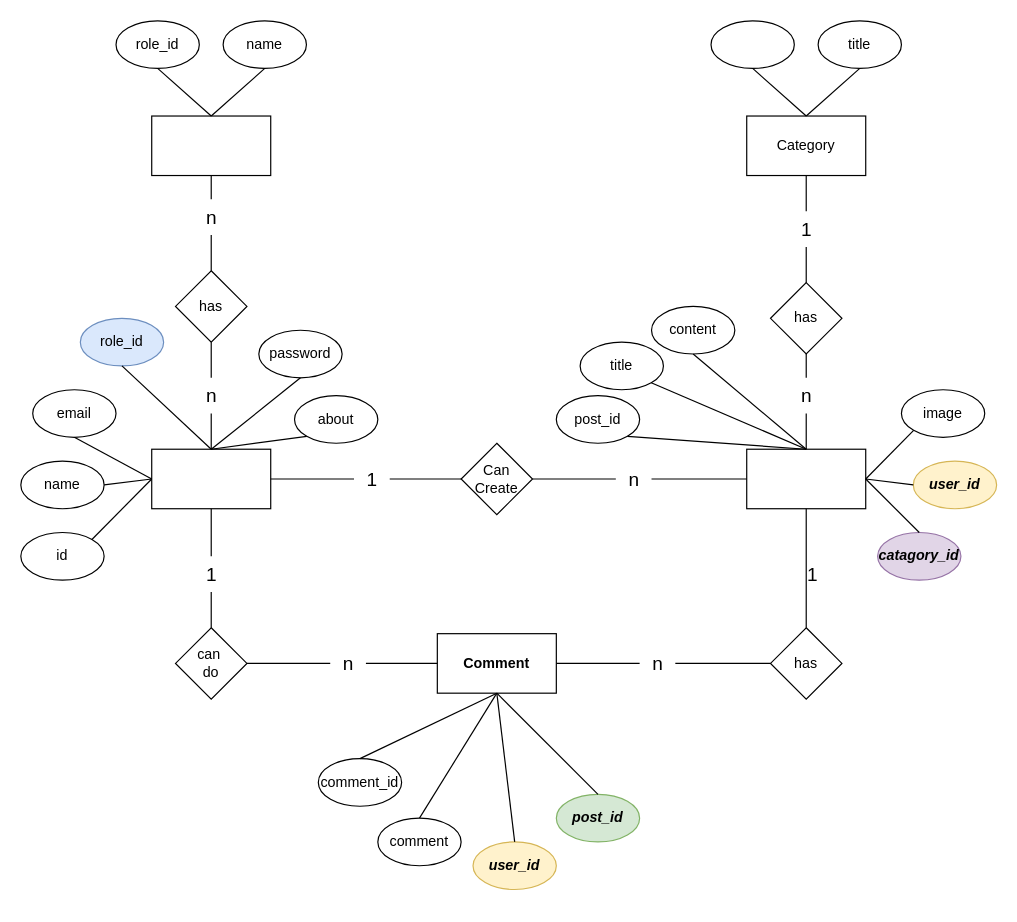
Image size: 1017x922. Some labels were removed from this diagram. The shapes that lost their labels are listed below. From the top down, each one's centre as x and y in pixels, then its label:
(x=752, y=44): category_id
(x=211, y=145): Role
(x=211, y=478): User
(x=806, y=478): Post
